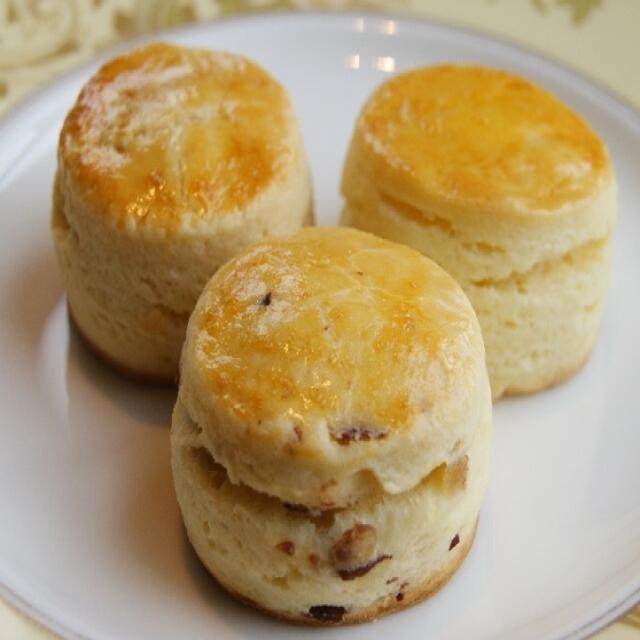面包点心: (11, 13, 632, 626)
